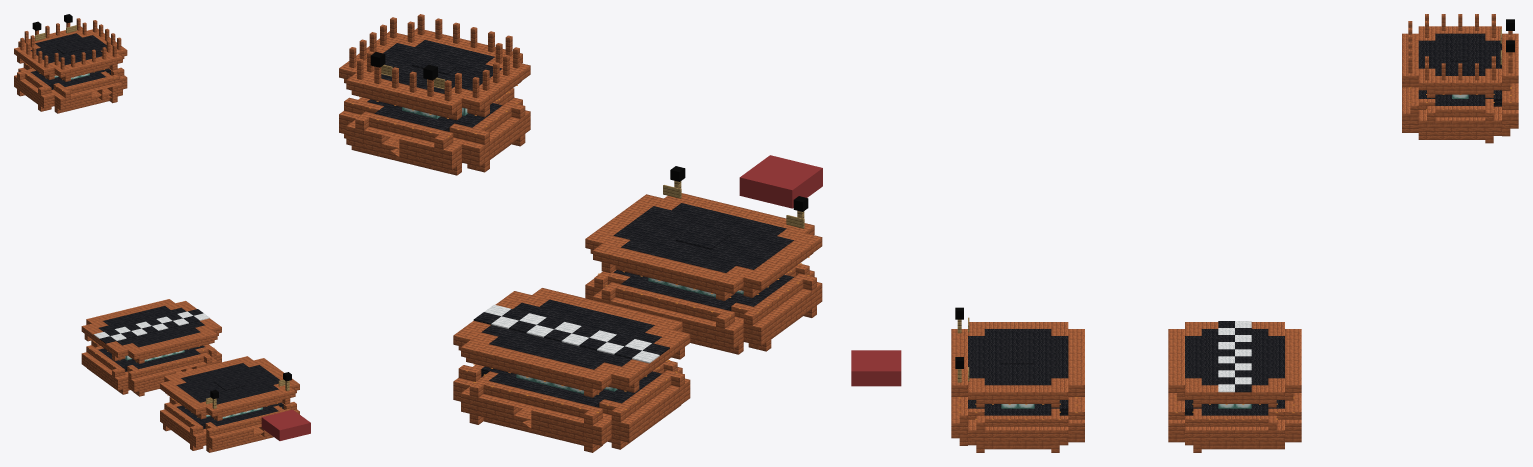
File: minecraft.obj
The picture shows the model from 3 angles, left to right: view 1: azimuth 30°, elevation 25°; view 2: azimuth 150°, elevation 25°; view 3: azimuth 270°, elevation 25°; orthographic projection. The views are drawn at different scales.
Bounding box in the file's own units: 10 × 25.52 × 40.
